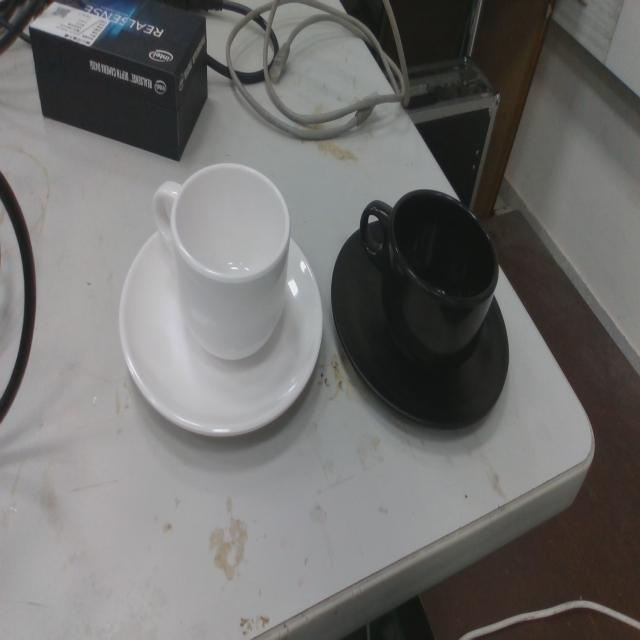black: (330, 184, 513, 439)
white: (117, 157, 327, 445)
